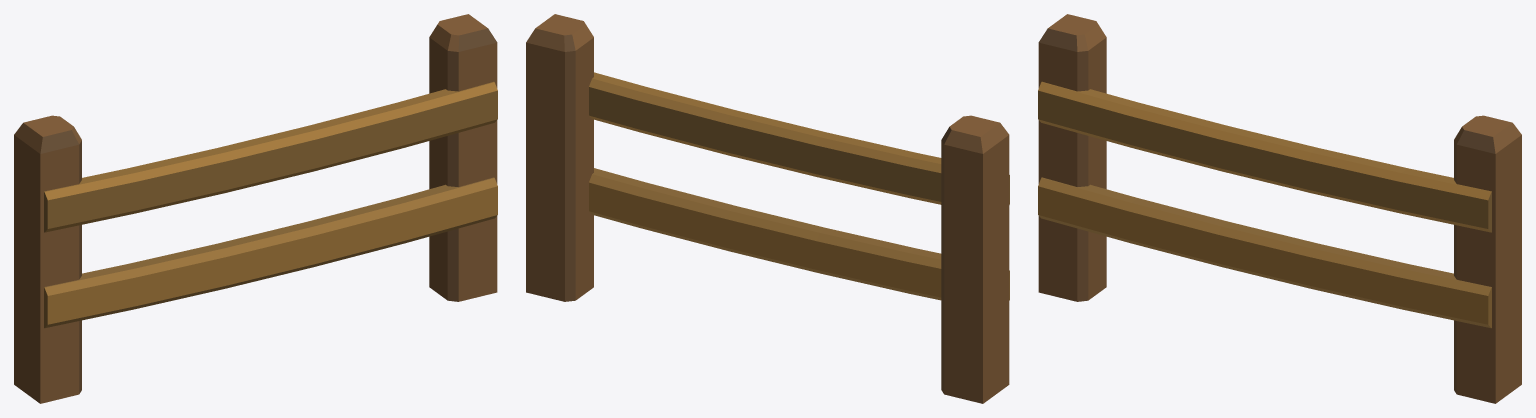
Rendered from wooden-fence-section-d72055.glb.
The picture shows the model from 3 angles, left to right: view 1: azimuth 30°, elevation 25°; view 2: azimuth 150°, elevation 25°; view 3: azimuth 330°, elevation 25°; orthographic projection.
Parts seen in each view (by area): view 1: fence-body; view 2: fence-body; view 3: fence-body.
Part boxes in pixels (box(x1,y1,x2,y2)): fence-body: box(14, 14, 497, 403); fence-body: box(526, 14, 1009, 403); fence-body: box(1038, 14, 1521, 403).
Size of the model in its own units: 2 by 1.1 by 0.23.
